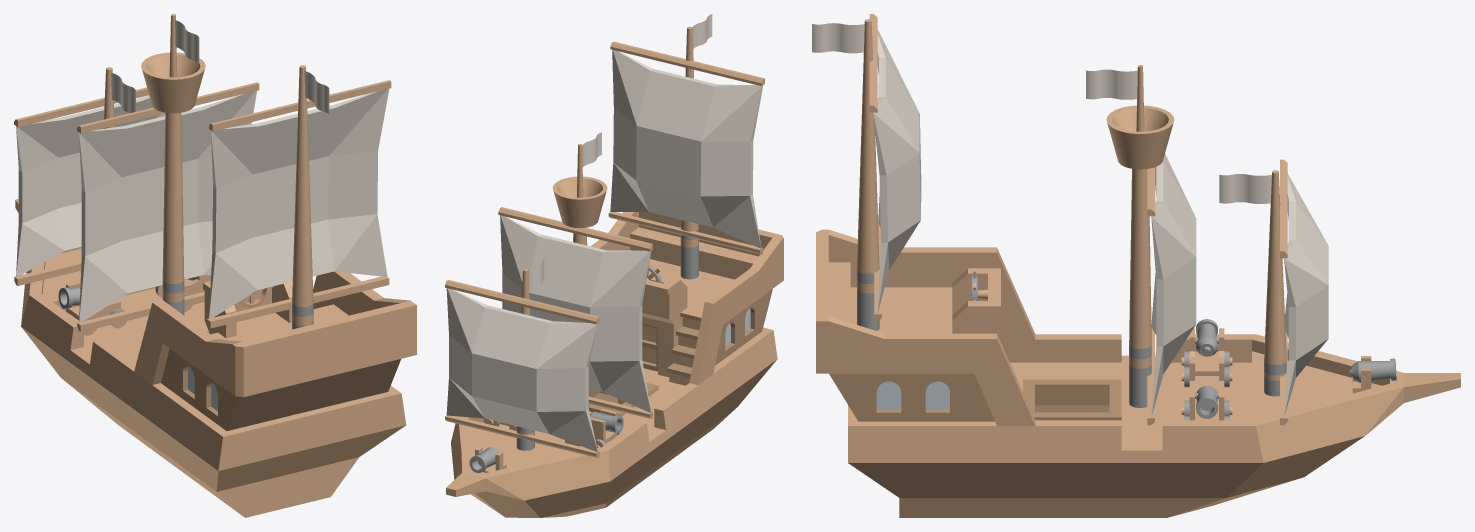
Rendered from ship_light.glb.
3 renders of one model, left to right at view 1: azimuth 30°, elevation 25°; view 2: azimuth 150°, elevation 25°; view 3: azimuth 270°, elevation 25°, orthographic. The views are drawn at different scales.
Visible parts, largest first — view 1: ship_light_8angles, sail_back 1, sail_middle 1, sail_front 1, cannon_left 1; view 2: ship_light_8angles, sail_back 1, sail_front 1, sail_middle 1, cannon_left 1 (×2), cannon_front 1; view 3: ship_light_8angles, sail_back 1, sail_middle 1, sail_front 1, cannon_left 1 (×2), cannon_front 1.
Part boxes in pixels (x1,y1,x2,y2): ship_light_8angles: (15, 14, 416, 517); sail_back 1: (207, 80, 391, 328); sail_middle 1: (77, 82, 259, 331); sail_front 1: (14, 87, 165, 285); cannon_left 1: (66, 281, 120, 320); ship_light_8angles: (446, 14, 783, 517); sail_back 1: (608, 41, 764, 254); sail_front 1: (445, 280, 599, 457); sail_middle 1: (498, 207, 652, 418); cannon_left 1 (×2): (590, 408, 623, 443); cannon_front 1: (469, 447, 498, 473); ship_light_8angles: (812, 19, 1460, 517); sail_back 1: (869, 14, 921, 321); sail_middle 1: (1147, 154, 1196, 425); sail_front 1: (1280, 159, 1328, 425); cannon_left 1 (×2): (1189, 319, 1224, 380); cannon_front 1: (1349, 358, 1396, 382).
Size of the model in its own units: 2.85 by 6.55 by 8.1.
